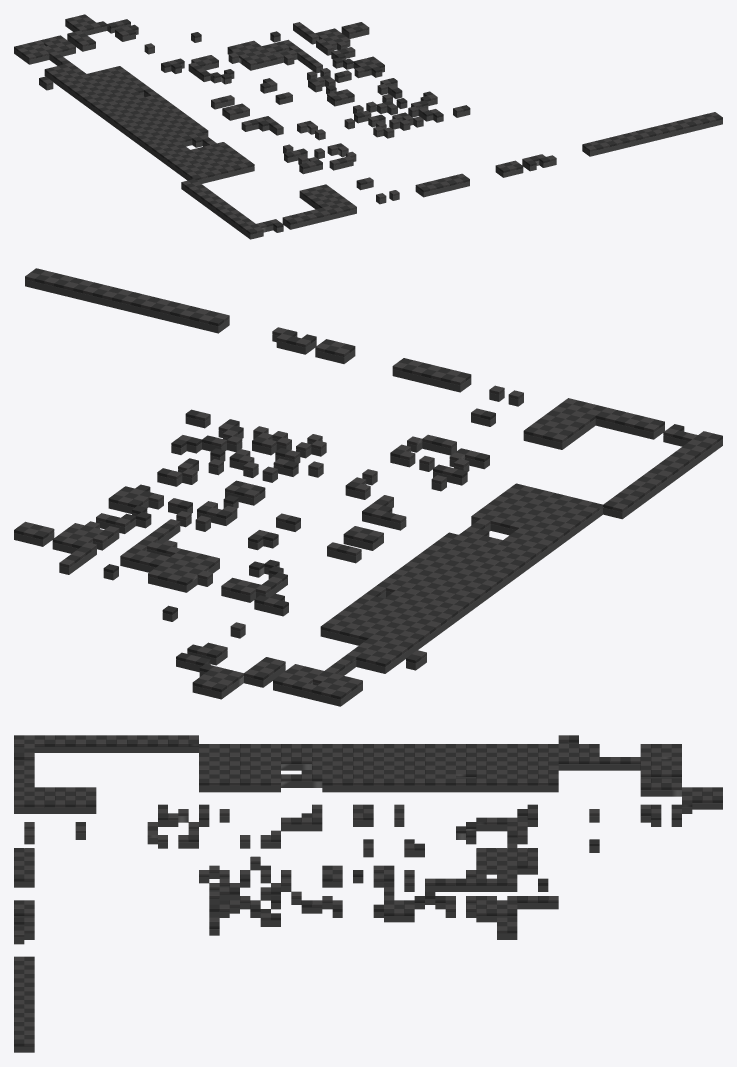
Rendered from Baked Mesh 2.obj.
The picture shows the model from 3 angles, top to bottom: view 1: azimuth 30°, elevation 25°; view 2: azimuth 150°, elevation 25°; view 3: azimuth 270°, elevation 25°; orthographic projection. The views are drawn at different scales.
Parts seen in each view (by area): view 1: Baked Mesh 2; view 2: Baked Mesh 2; view 3: Baked Mesh 2.
Boxes of the visible parts, box(x1,y1,x2,y2) form: Baked Mesh 2: box(14, 14, 722, 239); Baked Mesh 2: box(14, 268, 722, 706); Baked Mesh 2: box(14, 735, 722, 1052).
Size of the model in its own units: 142 by 2 by 138.
1 material, 1 textured.
